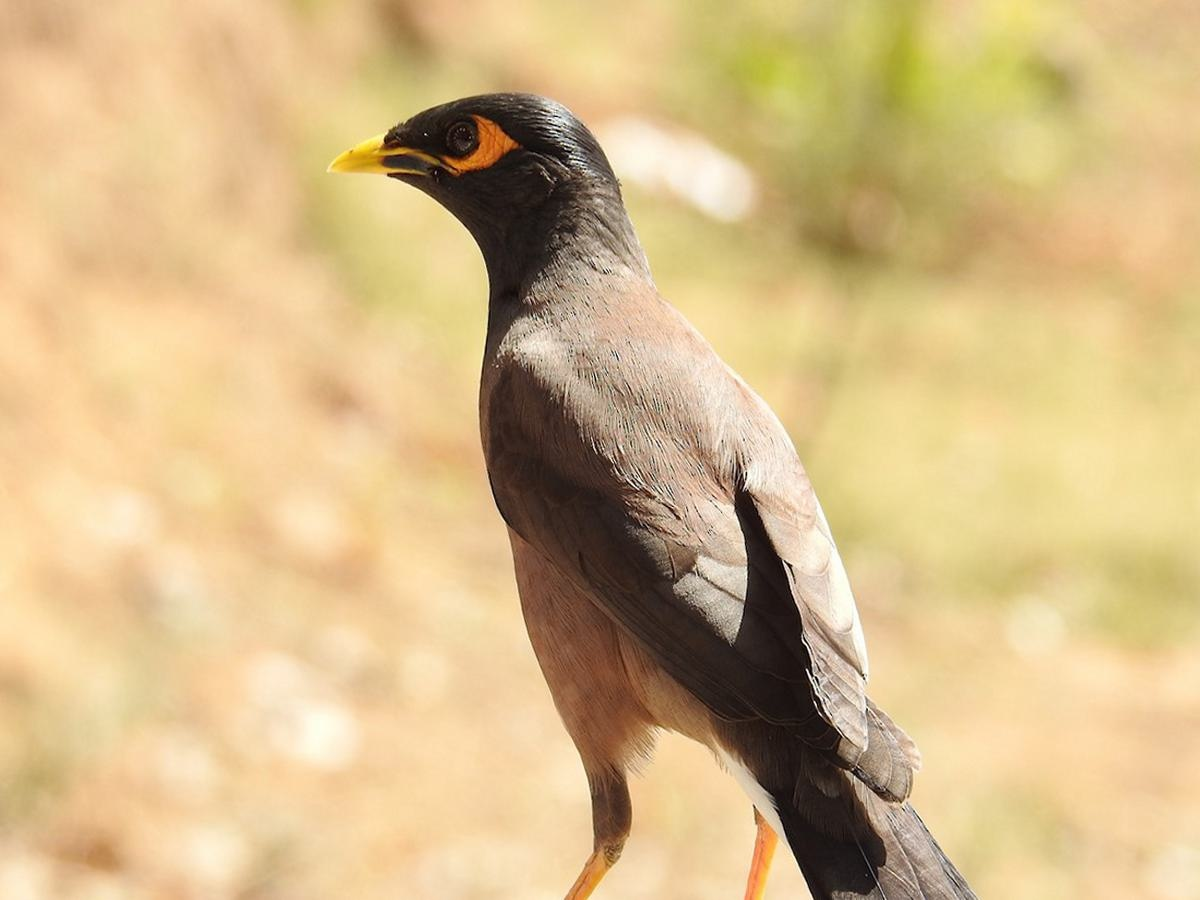myna: (321, 81, 954, 885)
